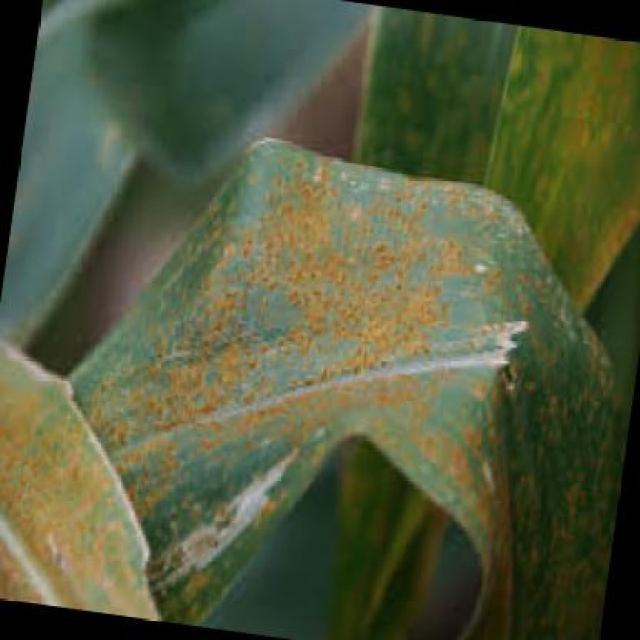Corn_Rust: (77, 123, 601, 606)
